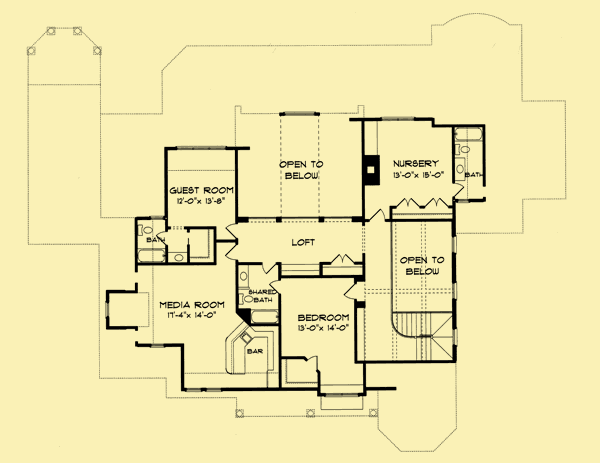door: (392, 195, 419, 209), (367, 208, 389, 224), (329, 252, 353, 266), (224, 219, 239, 241), (422, 196, 450, 207), (344, 282, 360, 300), (224, 244, 237, 261), (261, 263, 278, 276), (268, 280, 280, 297)
large_sink: (236, 291, 254, 309), (134, 223, 153, 239), (452, 142, 472, 156)
small_sink: (238, 264, 251, 290), (453, 158, 465, 180), (168, 252, 188, 265)
stairs: (392, 311, 436, 361)
tub: (452, 125, 484, 144), (135, 249, 167, 264), (250, 309, 280, 325)
window: (379, 116, 417, 125), (174, 145, 227, 151), (323, 390, 356, 398), (105, 302, 111, 319)
